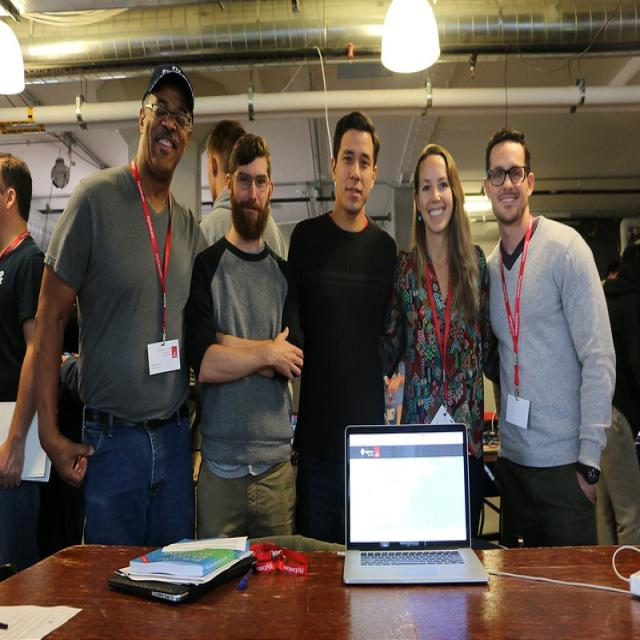body: (33, 61, 213, 548), (477, 126, 618, 550), (284, 108, 403, 546), (184, 130, 306, 533), (378, 142, 502, 536), (0, 154, 50, 581), (195, 113, 292, 263), (596, 242, 640, 546), (39, 274, 84, 546), (572, 218, 618, 290)
